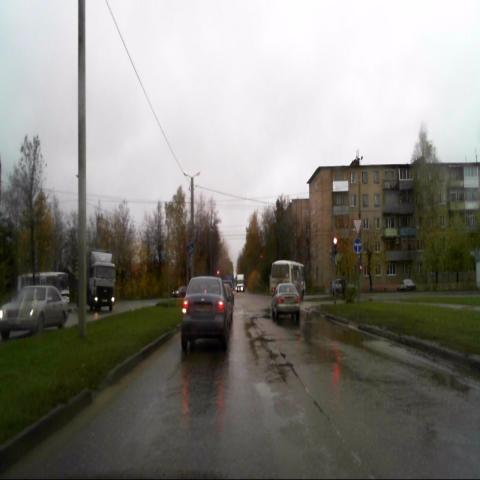2_4: (352, 217, 363, 235)
4_1_6: (353, 238, 362, 255)
